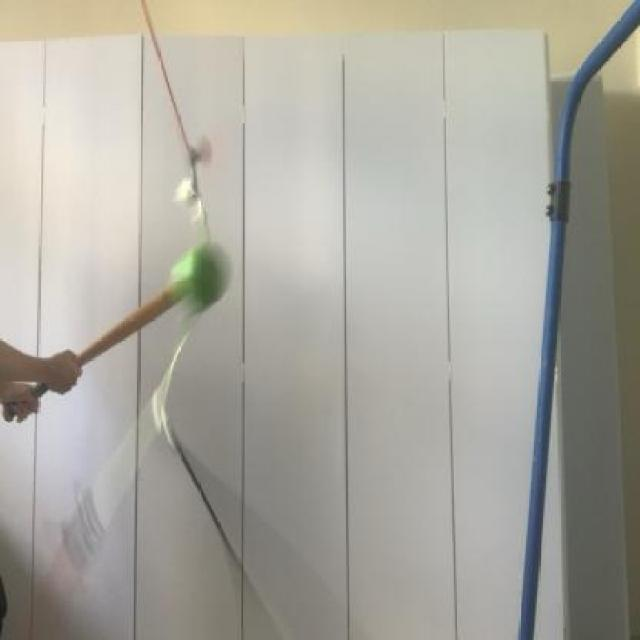baseball: (170, 229, 239, 325)
